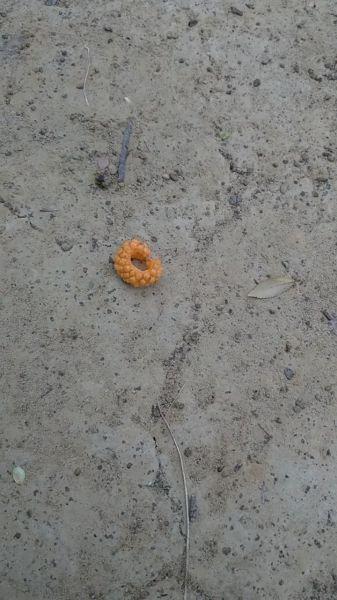eggs: (108, 237, 177, 305)
